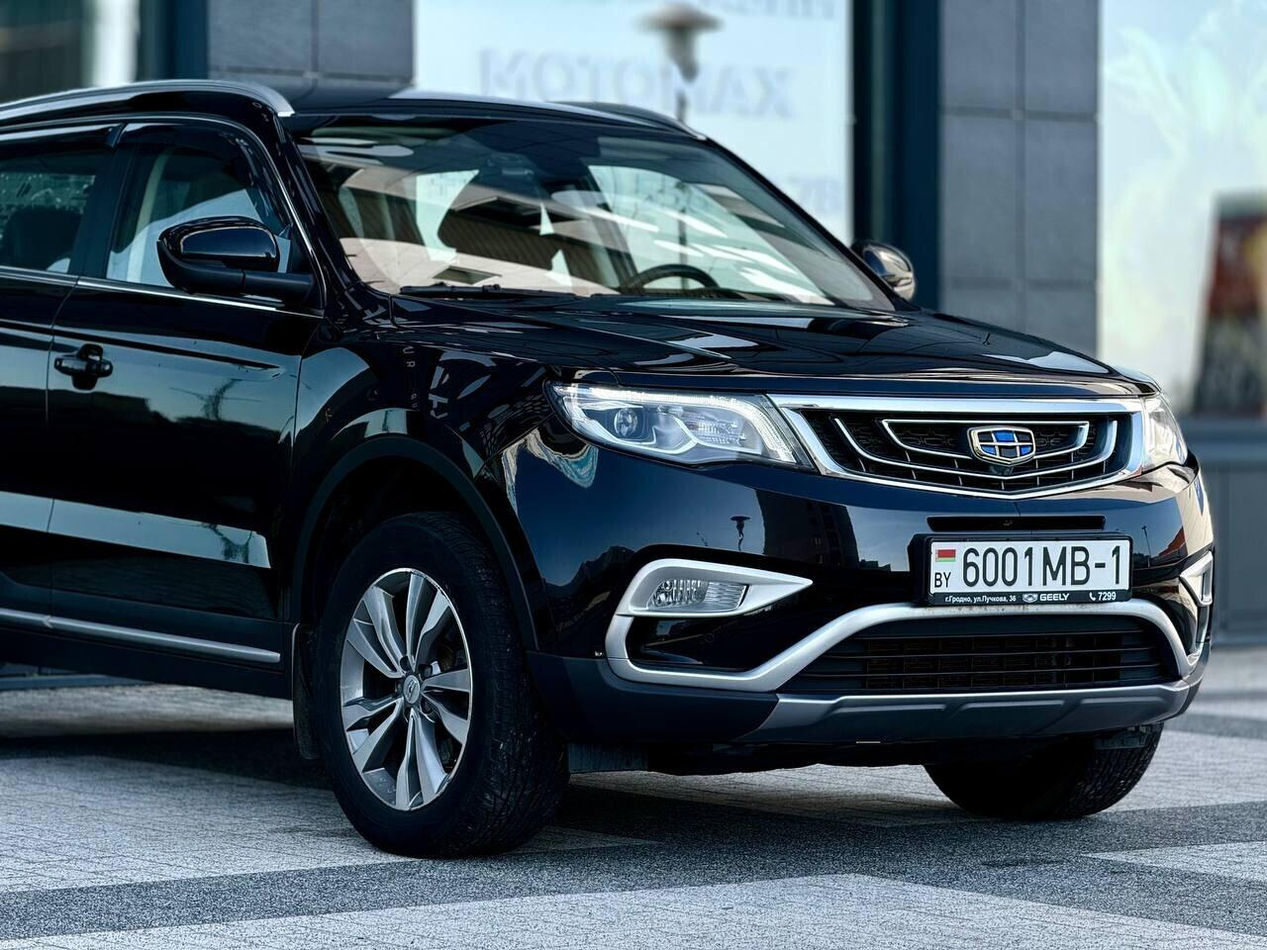Atlas_2016-2023: (0, 79, 1219, 845)
